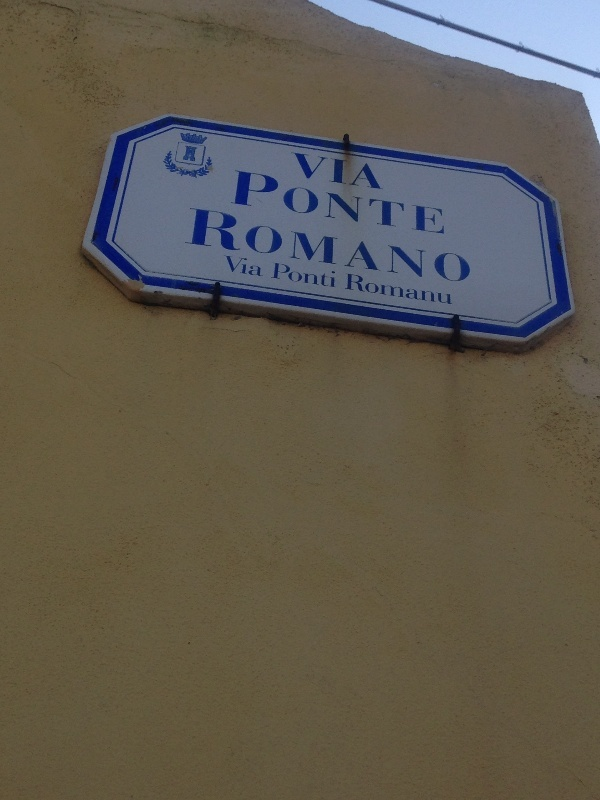text: (193, 202, 208, 291), (209, 202, 224, 291), (225, 202, 240, 291), (241, 202, 256, 291), (257, 202, 272, 291), (273, 202, 288, 291), (289, 202, 304, 291), (305, 202, 320, 291), (321, 202, 336, 291), (337, 202, 352, 291), (353, 202, 368, 291), (369, 202, 384, 291), (385, 202, 400, 291), (401, 202, 416, 291), (417, 202, 432, 291), (433, 202, 448, 291), (449, 202, 464, 291), (241, 166, 256, 242), (257, 166, 272, 242), (273, 166, 288, 242), (289, 166, 304, 242), (305, 166, 320, 242), (321, 166, 336, 242), (337, 166, 352, 242), (353, 166, 368, 242), (369, 166, 384, 242), (385, 166, 400, 242), (401, 166, 416, 242), (417, 166, 432, 242), (433, 166, 446, 242), (305, 152, 320, 196), (321, 152, 336, 196), (337, 152, 352, 196), (353, 152, 368, 196), (369, 152, 384, 196), (353, 271, 368, 310), (369, 271, 384, 310), (385, 271, 400, 310), (401, 271, 416, 310), (417, 271, 432, 310), (433, 271, 448, 310), (465, 202, 471, 291), (292, 152, 304, 196), (321, 260, 337, 293), (273, 260, 288, 293), (289, 260, 304, 293), (305, 260, 320, 293), (225, 253, 240, 283), (241, 253, 256, 283), (257, 253, 264, 283), (347, 271, 352, 310), (449, 271, 453, 310), (238, 166, 240, 242), (191, 202, 192, 291), (385, 152, 386, 196)
